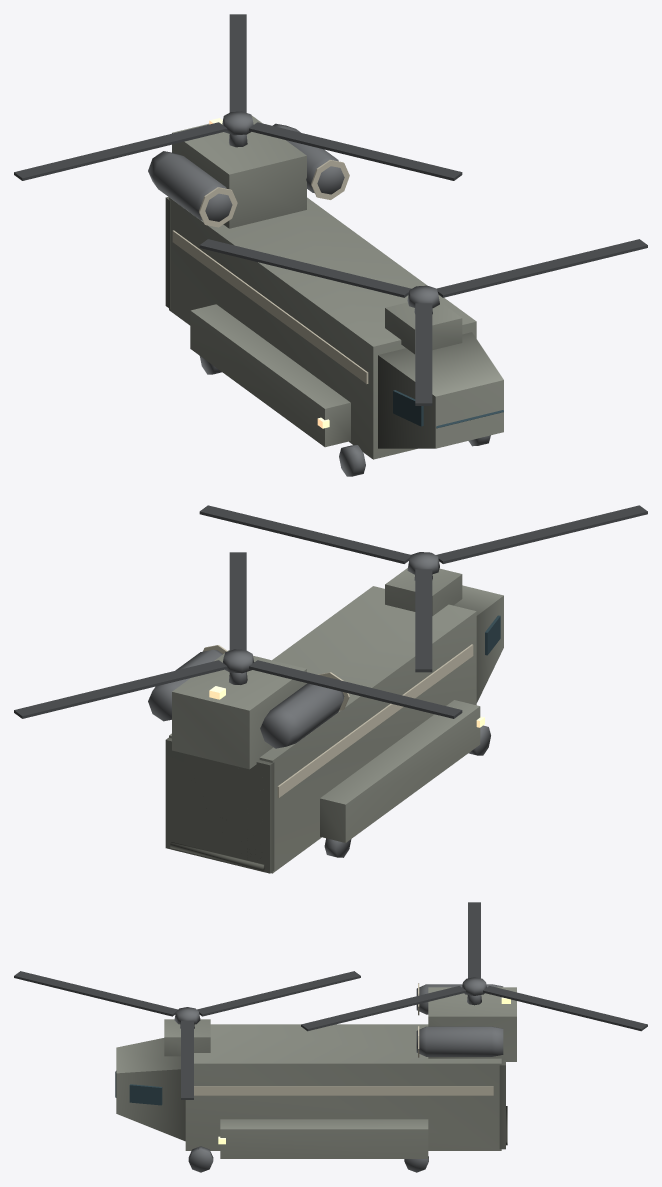
Rendered from airlift.glb.
The picture shows the model from 3 angles, top to bottom: view 1: azimuth 30°, elevation 25°; view 2: azimuth 150°, elevation 25°; view 3: azimuth 270°, elevation 25°; orthographic projection. The views are drawn at different scales.
Visible parts, largest first — view 1: Fuselage, Rotor0 blades, Rotor1 blades, Engines, Stripes, Glazing; view 2: Fuselage, Rotor0 blades, Rotor1 blades, Engines, Stripes, Ramp panel, Rotor1 hub, Rotor0 hub; view 3: Fuselage, Engines, Rotor0 blades, Rotor1 blades, Stripes, Glazing.
Part boxes in pixels (left/top/right/bottom): Fuselage: left=165, top=115, right=503, bottom=459; Rotor0 blades: left=199, top=239, right=647, bottom=405; Rotor1 blades: left=14, top=14, right=462, bottom=180; Engines: left=148, top=123, right=490, bottom=476; Stripes: left=172, top=160, right=368, bottom=383; Glazing: left=393, top=390, right=503, bottom=428; Fuselage: left=165, top=568, right=503, bottom=873; Rotor0 blades: left=199, top=505, right=647, bottom=672; Rotor1 blades: left=14, top=552, right=462, bottom=718; Engines: left=148, top=574, right=490, bottom=857; Stripes: left=203, top=644, right=473, bottom=797; Ramp panel: left=170, top=842, right=264, bottom=870; Rotor1 hub: left=223, top=649, right=254, bottom=673; Rotor0 hub: left=407, top=552, right=439, bottom=574; Fuselage: left=116, top=987, right=516, bottom=1158; Engines: left=180, top=984, right=503, bottom=1172; Rotor0 blades: left=14, top=971, right=360, bottom=1099; Rotor1 blades: left=301, top=902, right=647, bottom=1031; Stripes: left=194, top=983, right=493, bottom=1095; Glazing: left=115, top=1071, right=162, bottom=1105.
Bounding box in the file's own units: 10.2 × 4.76 × 16.45.
